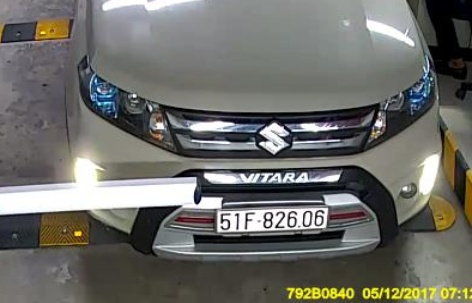plate: (211, 203, 331, 238)
